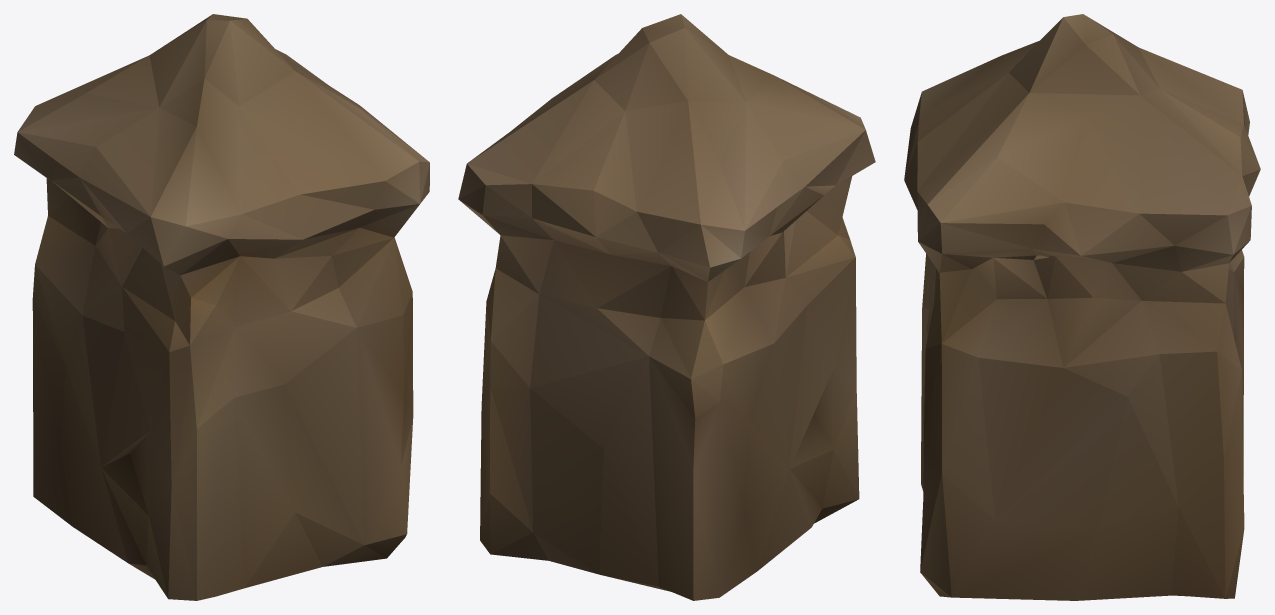
Rendered from watchtower.glb.
3 renders of one model, left to right at view 1: azimuth 30°, elevation 25°; view 2: azimuth 150°, elevation 25°; view 3: azimuth 270°, elevation 25°, orthographic. The views are drawn at different scales.
Parts seen in each view (by area): view 1: model.001; view 2: model.001; view 3: model.001.
Boxes of the visible parts, x1,y1,x2,y2 form: model.001: (14, 14, 429, 600); model.001: (458, 14, 875, 600); model.001: (904, 14, 1260, 600).
Bounding box in the file's own units: 0.6027 × 1.03 × 0.6286.
